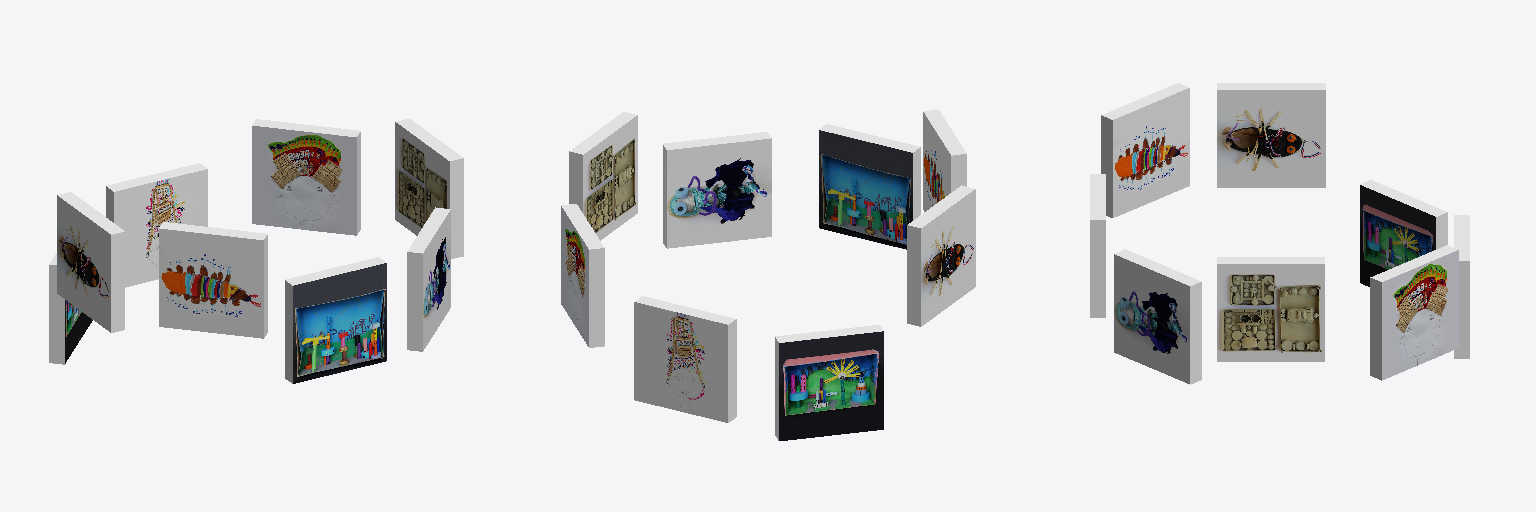
3 renders of one model, left to right at view 1: azimuth 30°, elevation 25°; view 2: azimuth 150°, elevation 25°; view 3: azimuth 270°, elevation 25°, orthographic.
Visible parts, largest first — view 1: Cube_8, Cube_2, Cube_6, Cube_4, Cube_1, Cube_3, Cube_5, Cube_7; view 2: Cube_5, Cube_7, Cube_1, Cube_6, Cube_4, Cube_3, Cube_2, Cube_8; view 3: Cube_4, Cube_3, Cube_2, Cube_5, Cube_8, Cube_7, Cube_6, Cube_1.
Boxes of the visible parts, x1,y1,x2,y2 form: Cube_8: [159, 222, 267, 338]; Cube_2: [252, 119, 360, 235]; Cube_6: [285, 257, 386, 383]; Cube_4: [57, 192, 124, 332]; Cube_1: [106, 163, 207, 287]; Cube_3: [395, 118, 463, 258]; Cube_5: [407, 207, 450, 351]; Cube_7: [49, 253, 92, 364]; Cube_5: [663, 132, 771, 248]; Cube_7: [775, 325, 883, 440]; Cube_1: [634, 296, 736, 422]; Cube_6: [819, 124, 920, 249]; Cube_4: [907, 185, 975, 326]; Cube_3: [569, 112, 637, 240]; Cube_2: [561, 204, 604, 347]; Cube_8: [923, 110, 966, 211]; Cube_4: [1217, 83, 1325, 187]; Cube_3: [1217, 257, 1324, 361]; Cube_2: [1370, 245, 1458, 380]; Cube_5: [1114, 249, 1201, 384]; Cube_8: [1101, 83, 1189, 217]; Cube_7: [1360, 180, 1447, 286]; Cube_6: [1090, 174, 1105, 317]; Cube_1: [1454, 215, 1469, 358].
Size of the model in its own units: 1124 by 615 by 1049.
Materials: 9 (8 with a texture image).